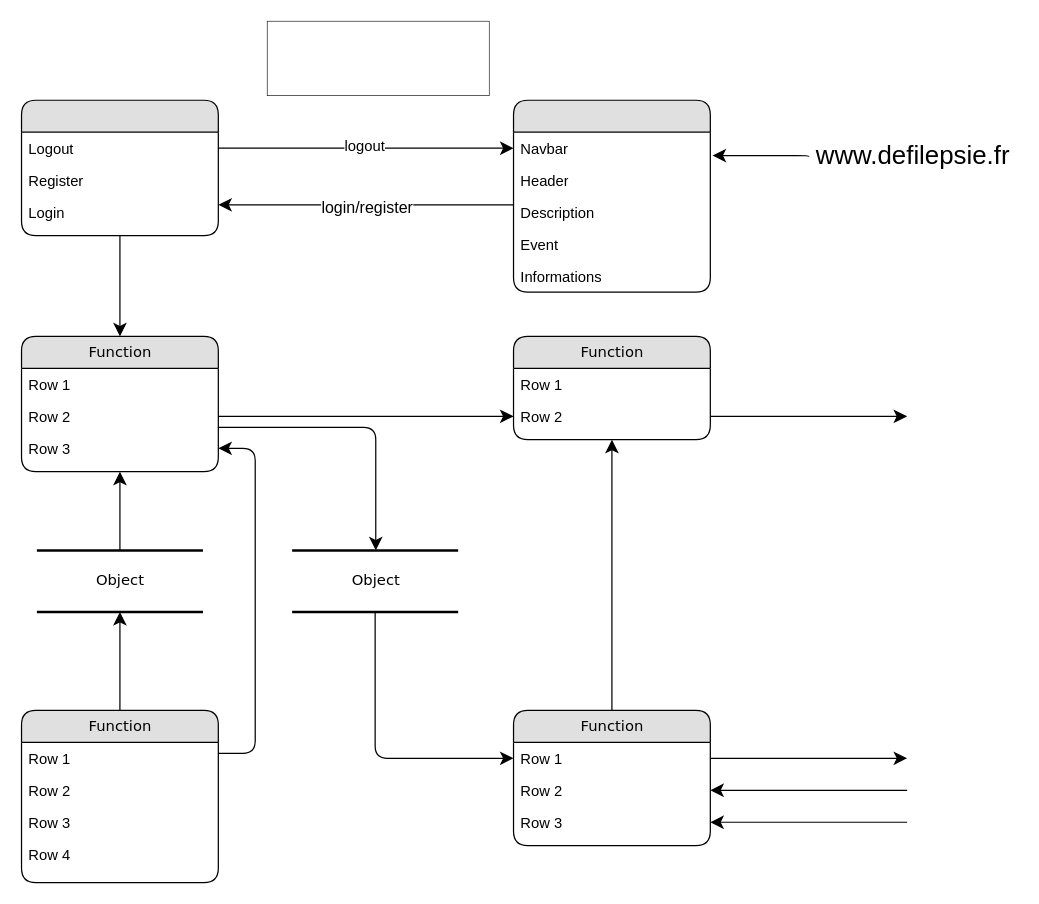
Some shapes in this 1039 by 904 pixel diagram are drawn without their labels. Each missing label, with the box of its shape:
Accueil: (512, 99, 710, 292)
Défilepsie: (267, 21, 488, 95)
Users: (20, 99, 218, 236)
